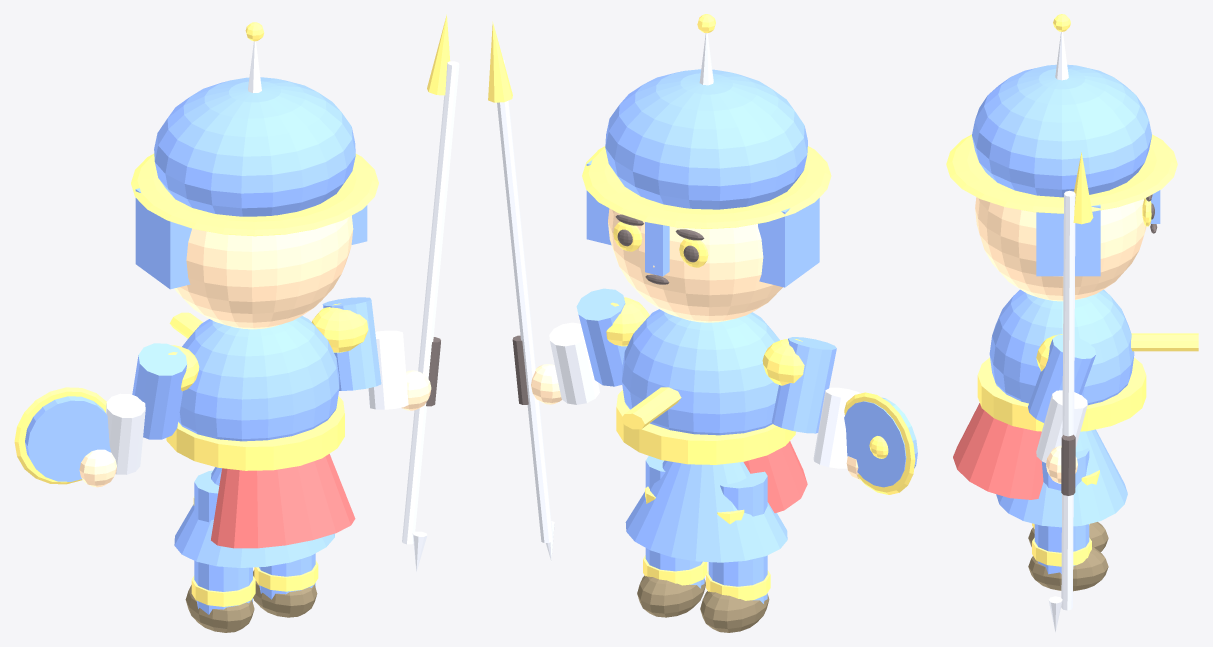
The model's file is Guard.glb.
3 renders of one model, left to right at view 1: azimuth 30°, elevation 25°; view 2: azimuth 150°, elevation 25°; view 3: azimuth 270°, elevation 25°, orthographic. The views are drawn at different scales.
Visible parts, largest first — view 1: HelmDome, Torso, Head, Cape, HelmBrim, SpearShaft, Belt, ShieldFace, UpperArmL, SkirtBase, CheekGuardL, UpperArmR (+13 smaller); view 2: HelmDome, Torso, SkirtBase, Head, HelmBrim, SpearShaft, Belt, ShieldFace, CheekGuardL, UpperArmL, UpperArmR, LegL (+17 smaller); view 3: HelmDome, Torso, Head, Cape, HelmBrim, SkirtBase, SpearShaft, Belt, CheekGuardR, UpperArmR, LegR, ForearmR (+8 smaller).
Part boxes in pixels (x1,y1,x2,y2): HelmDome: (154, 77, 355, 216); Torso: (178, 316, 339, 441); Head: (174, 215, 353, 329); Cape: (211, 454, 355, 548); HelmBrim: (131, 153, 378, 236); SpearShaft: (402, 61, 459, 544); Belt: (166, 396, 344, 470); ShieldFace: (25, 396, 110, 481); UpperArmL: (132, 343, 187, 439); SkirtBase: (174, 467, 335, 567); CheekGuardL: (135, 188, 191, 289); UpperArmR: (322, 297, 381, 390); HelmDome: (605, 69, 807, 209); Torso: (622, 309, 779, 435); SkirtBase: (625, 460, 787, 562); Head: (608, 208, 782, 322); HelmBrim: (582, 146, 831, 228); SpearShaft: (497, 60, 553, 542); Belt: (616, 389, 795, 464); ShieldFace: (844, 397, 917, 487); CheekGuardL: (758, 198, 819, 287); UpperArmL: (771, 337, 836, 433); UpperArmR: (576, 288, 627, 386); LegL: (708, 471, 767, 603); HelmDome: (972, 64, 1151, 197); Torso: (989, 289, 1134, 405); Head: (975, 197, 1146, 301); Cape: (953, 403, 1043, 499); HelmBrim: (946, 134, 1177, 213); SkirtBase: (996, 429, 1127, 527); SpearShaft: (1061, 190, 1075, 610); Belt: (977, 357, 1146, 431); CheekGuardR: (1036, 204, 1100, 276); UpperArmR: (1028, 334, 1095, 422); LegR: (1034, 448, 1089, 574); ForearmR: (1036, 390, 1087, 462).
Size of the model in its own units: 1.45 by 1.92 by 0.7849.
